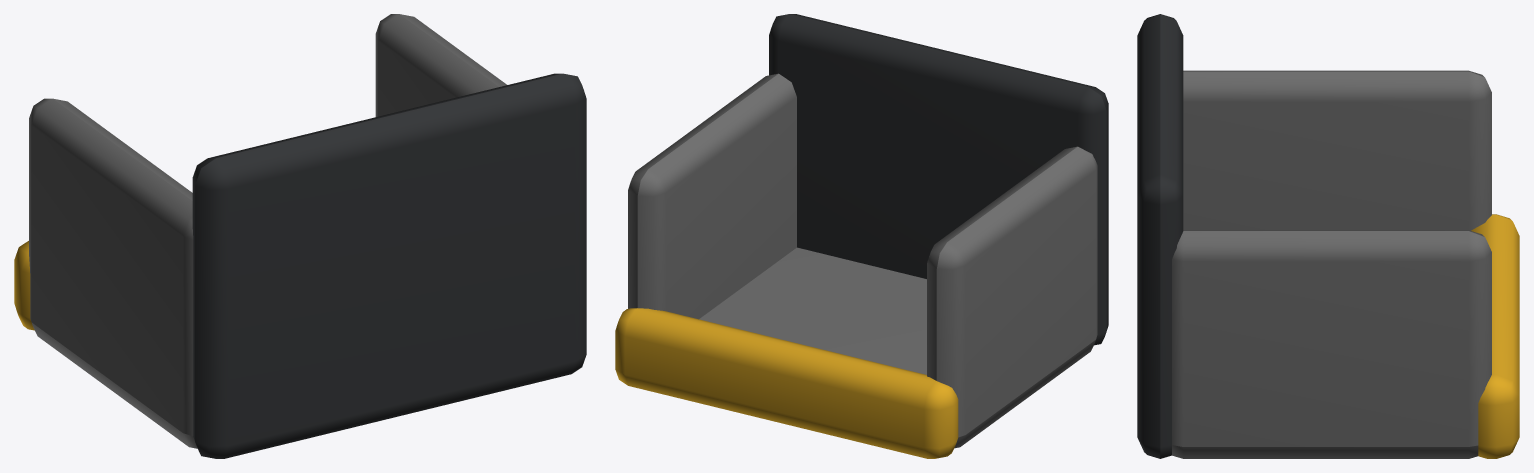
The model's file is reclaimer-bucket.glb.
3 views of the same model, side by side, from view 1: azimuth 30°, elevation 25°; view 2: azimuth 150°, elevation 25°; view 3: azimuth 270°, elevation 25° (orthographic). The views are drawn at different scales.
Visible parts, largest first — view 1: reclaimer-bucket; view 2: reclaimer-bucket; view 3: reclaimer-bucket.
Boxes of the visible parts, x1,y1,x2,y2 form: reclaimer-bucket: (14,14,586,458); reclaimer-bucket: (615,14,1108,458); reclaimer-bucket: (1137,14,1519,458).
Size of the model in its own units: 0.46 by 0.34 by 0.415.
